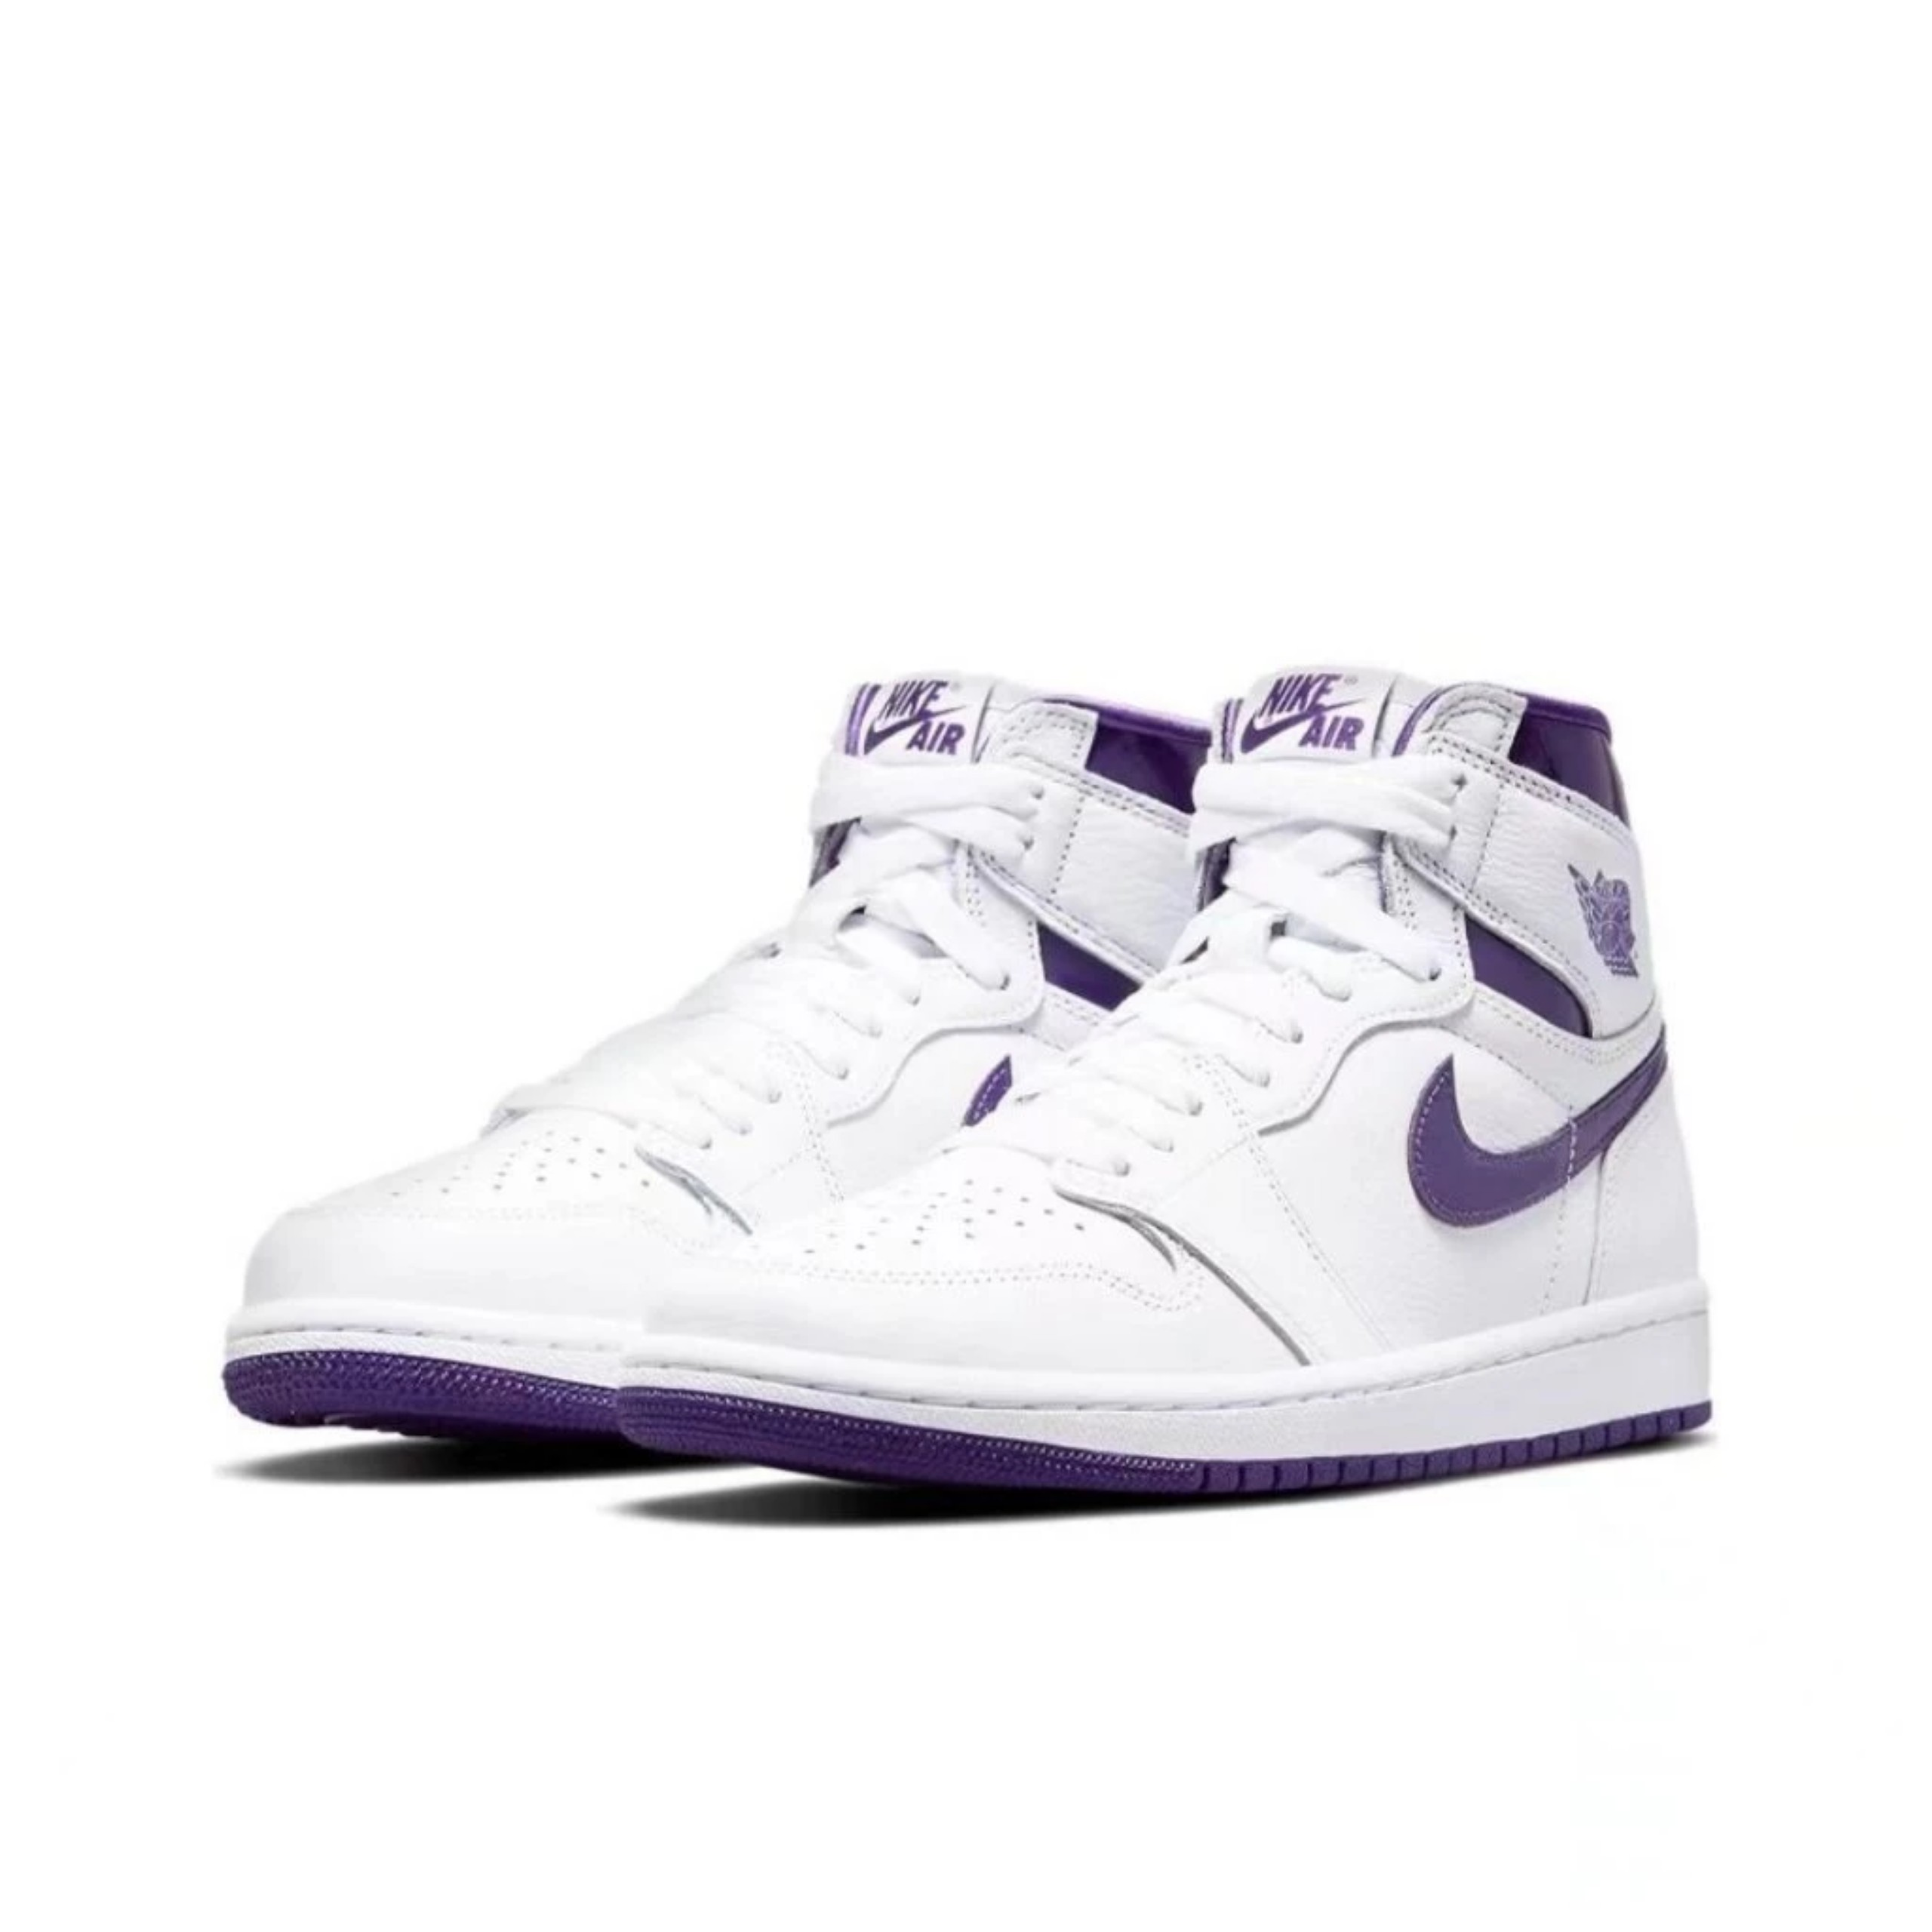sneakers: (626, 663, 1713, 1497), (216, 658, 1212, 1445)
